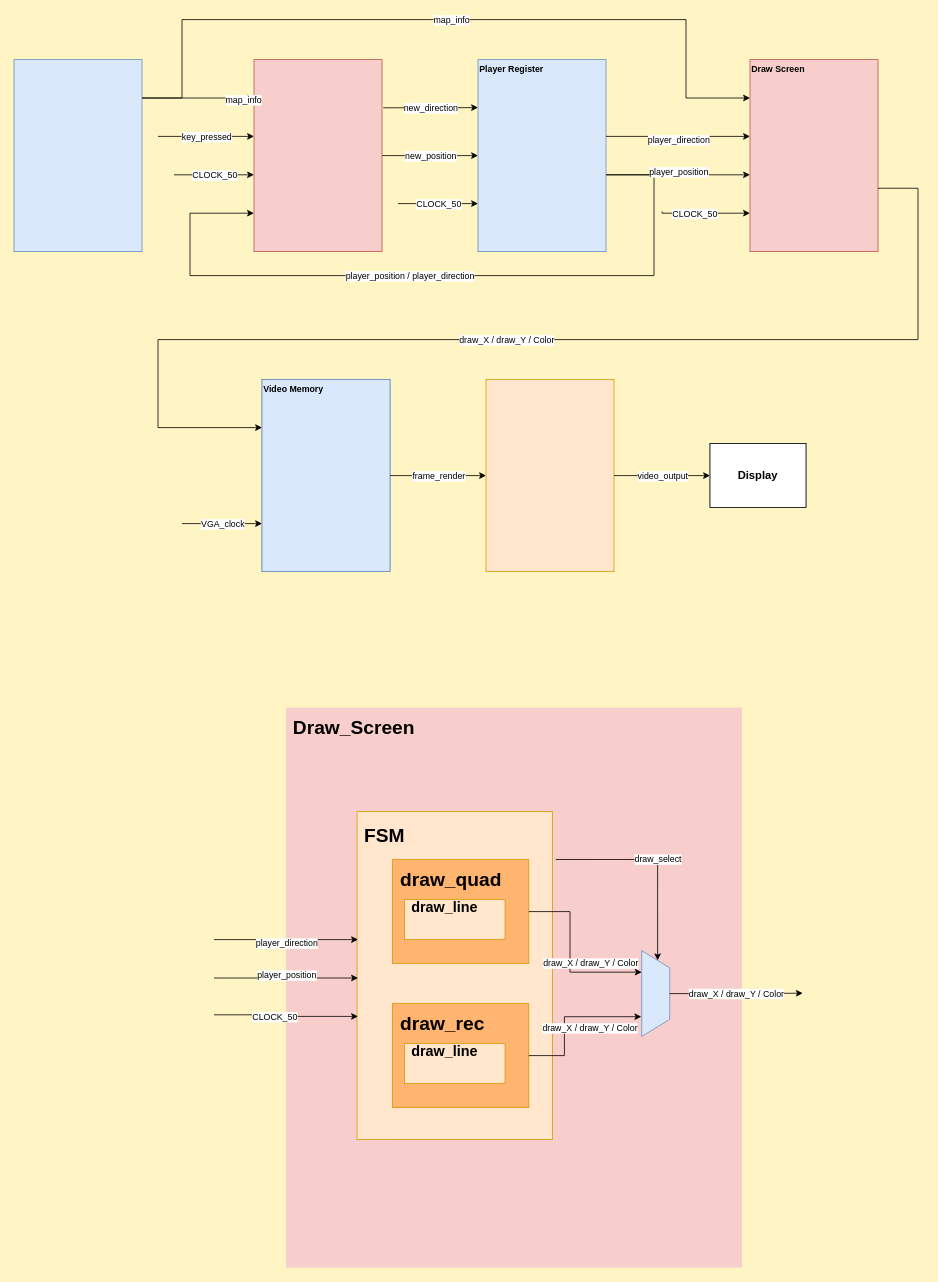
The diagram is 938 pixels wide and 1282 high, and some of its shapes have lost their labels. The centre of each missing label's shape, as x and y in pixels:
Map Memory: point (77, 155)
Player Update: point (317, 155)
VGA Adapter: point (549, 475)
